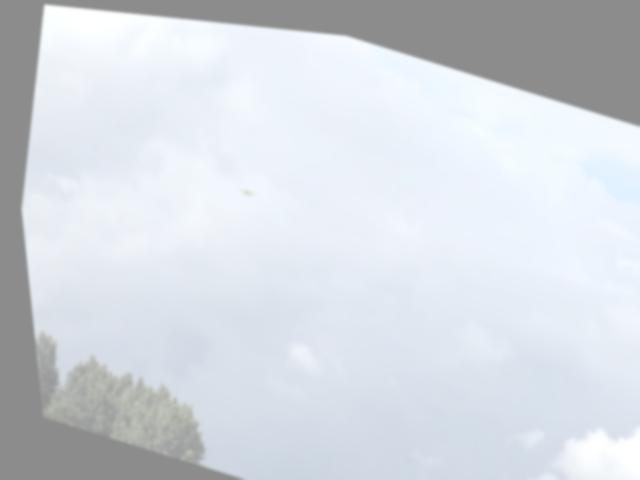plane: (231, 177, 254, 195)
